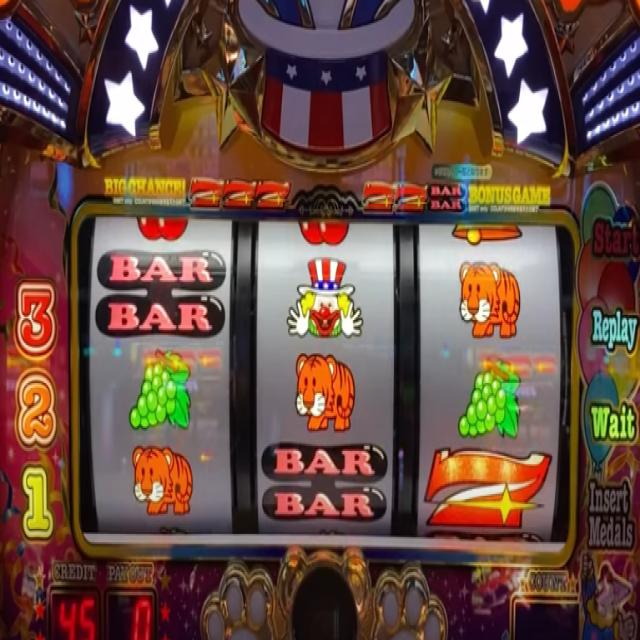bar: (96, 248, 224, 338), (258, 442, 386, 524), (429, 183, 466, 214)
bell: (451, 223, 524, 247)
cherry: (133, 216, 190, 242), (300, 217, 350, 246)
clown: (286, 254, 364, 341)
display: (77, 215, 571, 548)
grape: (127, 348, 195, 435), (458, 356, 522, 439)
tiger: (294, 346, 357, 430), (459, 259, 520, 341), (131, 444, 194, 518)
z: (423, 447, 554, 531), (188, 178, 223, 210), (394, 183, 428, 215), (256, 177, 291, 208), (363, 182, 394, 216), (224, 175, 253, 211)
